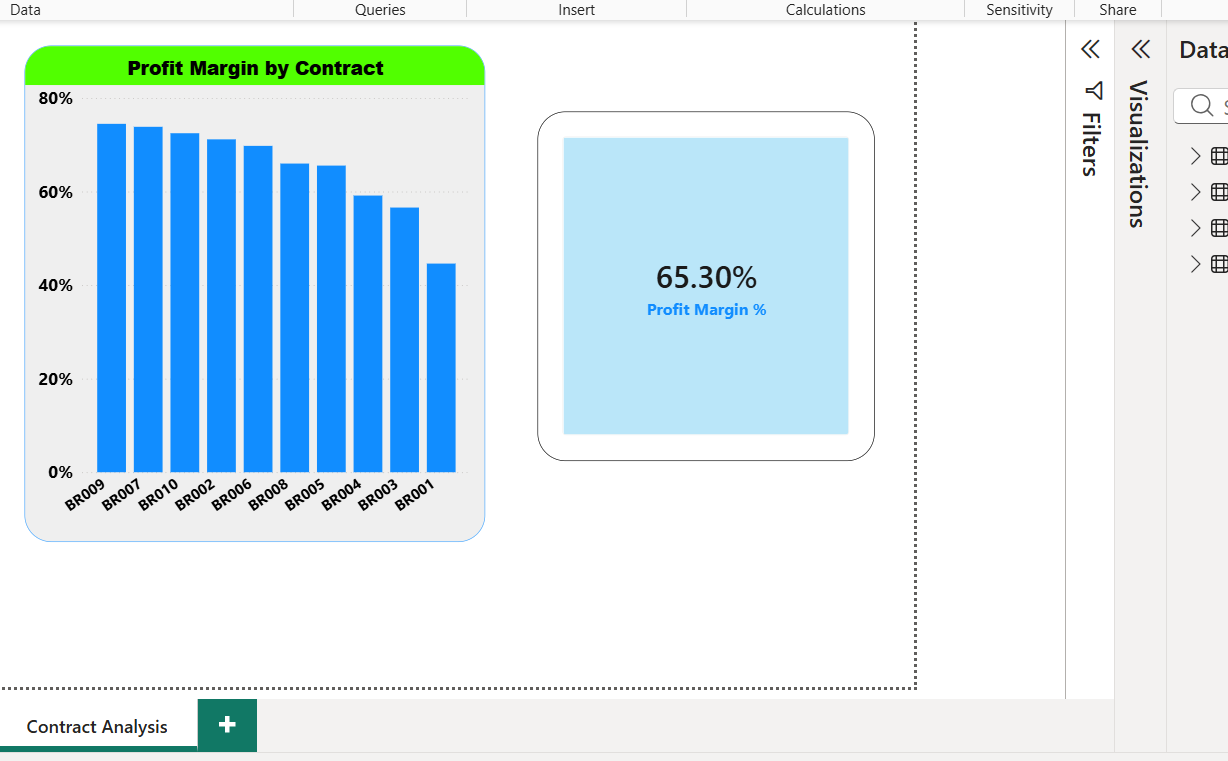

What the dashboard file says about the page in this screenshot:
{"tool":"powerbi","page":{"name":"Contract Analysis","canvas":[1280,720],"ordinal":1},"visuals":[{"type":"clusteredColumnChart","title":"Profit Margin by Contract","fields":{"Category":["tblContracts.رقم العقد"],"Y":["tblContracts.Profit Margin %"]},"box":[239.6,35.6,497.1,536],"z":0},{"type":"cardVisual","fields":{"Data":["tblContracts.Profit Margin %"]},"box":[777.2,113.3,364.3,377.3],"z":1000},{"type":"slicer","title":"رقم العقد ","fields":{"Values":["tblContracts.رقم العقد"]},"box":[0,98.8,195.9,391.9],"z":2000}]}

Visuals, with their boxes on the page's 1280x720 design canvas (x1, y1, x2, y2). These are canvas units, not pixel positions in the 1228x761 screenshot, which may show the page scaled, cropped or inside an application window:
"Profit Margin by Contract" clusteredColumnChart: l=240, t=36, r=737, b=572
cardVisual - tblContracts.Profit Margin %: l=777, t=113, r=1142, b=491
"رقم العقد " slicer: l=0, t=99, r=196, b=491
